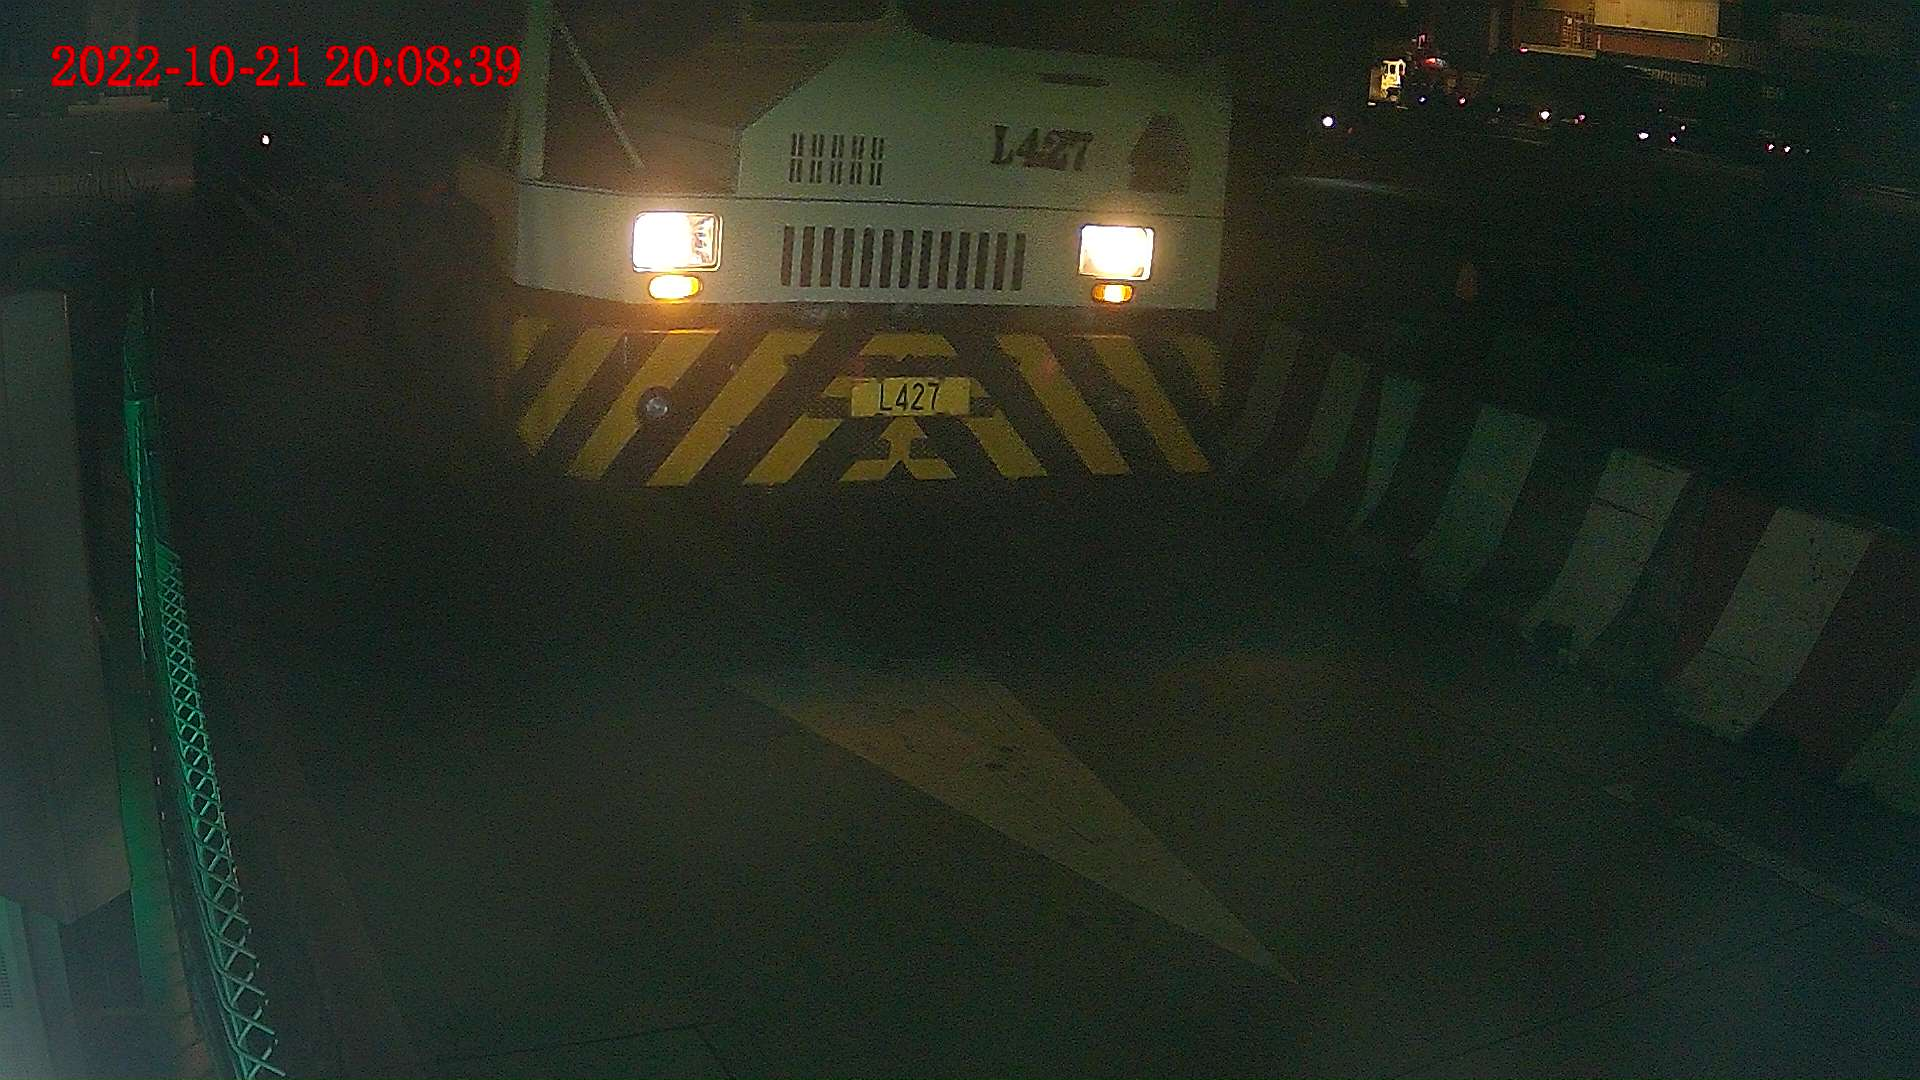head: (445, 1, 1230, 535)
plate: (843, 374, 966, 411)
